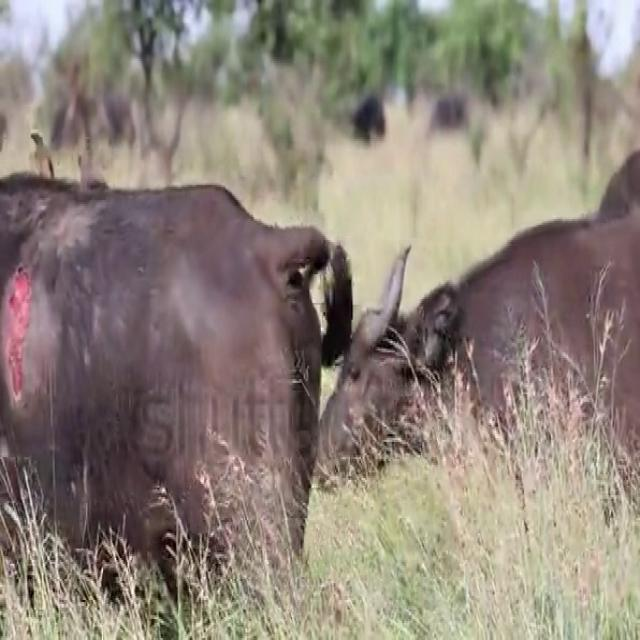injured-animals: (1, 168, 354, 602)
